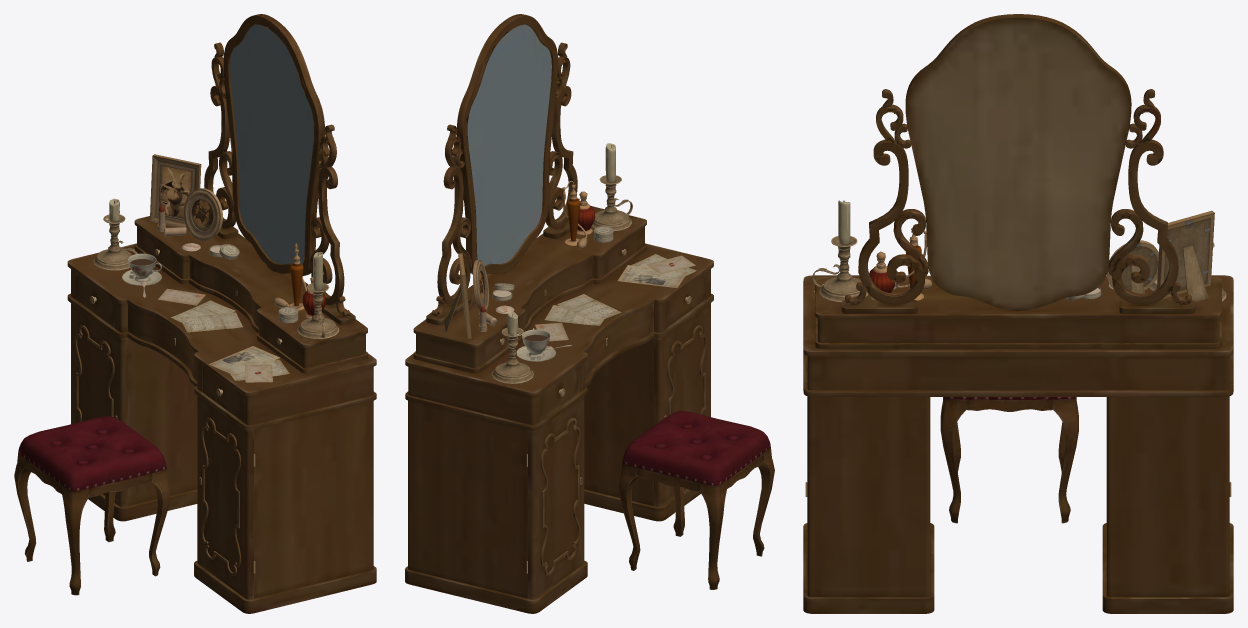
File: SM_mirrortable_3481ae.glb
The picture shows the model from 3 angles, left to right: view 1: azimuth 30°, elevation 25°; view 2: azimuth 150°, elevation 25°; view 3: azimuth 270°, elevation 25°; orthographic projection. The views are drawn at different scales.
Size of the model in its own units: 0.8311 by 1.58 by 1.04.
11 materials, 11 textured.
